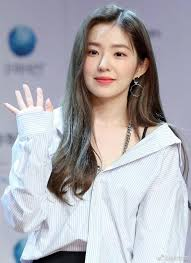people: (2, 5, 188, 263)
